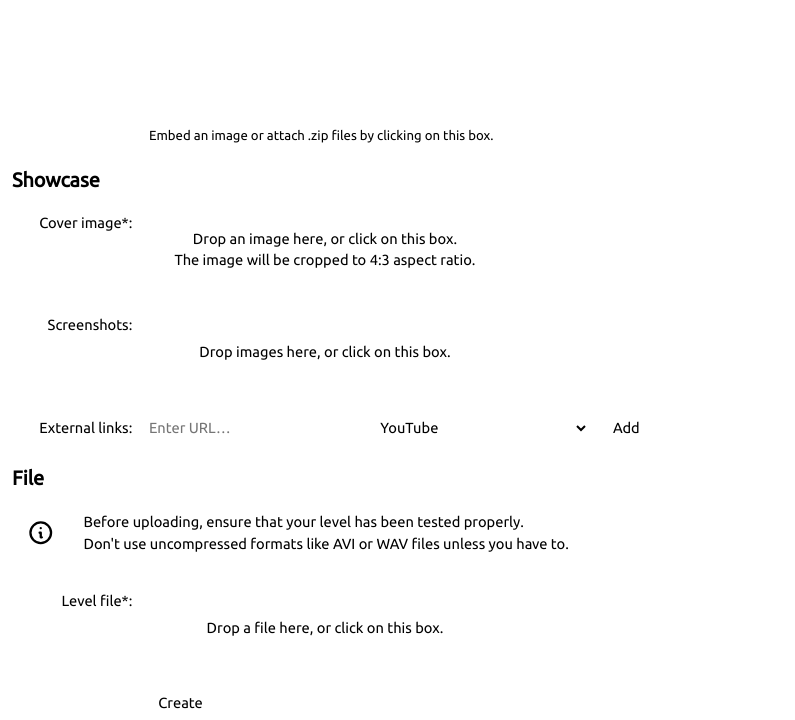
Test: LevelForm › blocks submit and shows required errors when empty
(page scrolled)
Click the button "Create" at (180, 703), box 142,686 -> 219,719
(page scrolled)
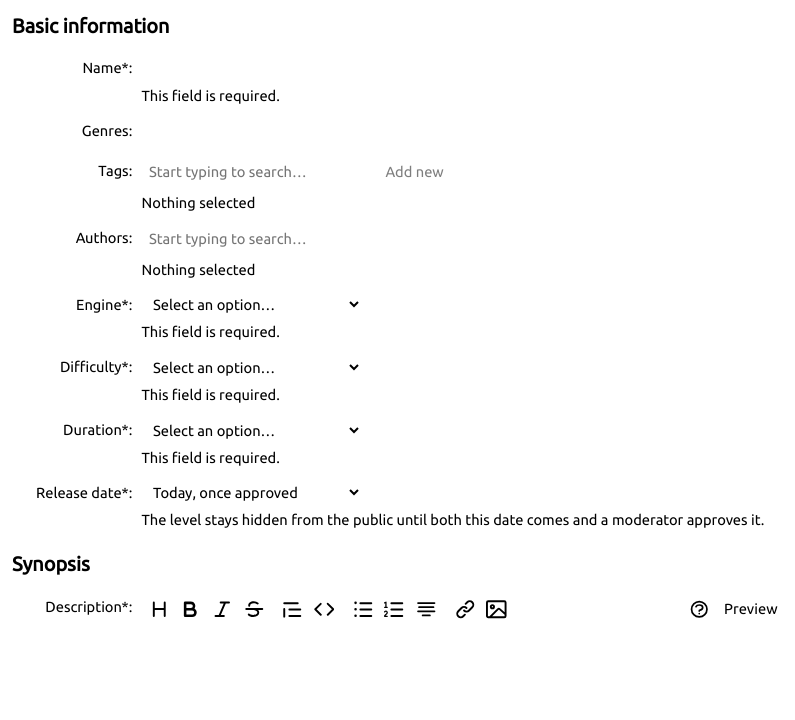
Expected: the text "This field is required." below "Name" is shown, 142,87 -> 280,104
